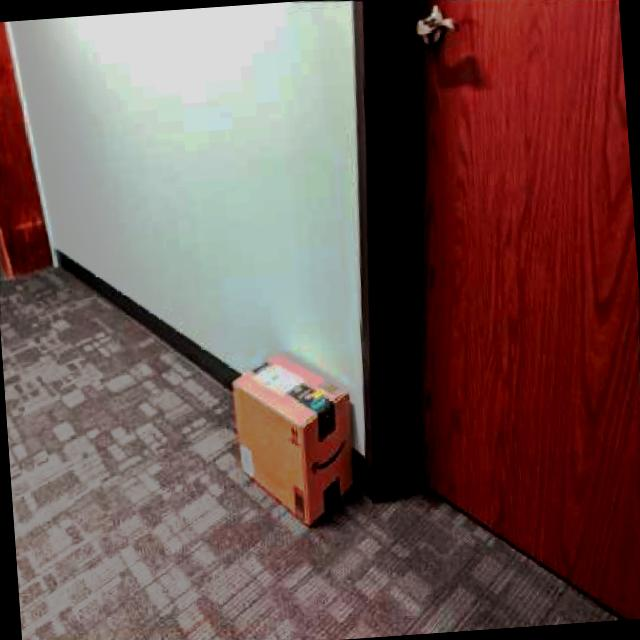Box: (220, 339, 370, 534)
